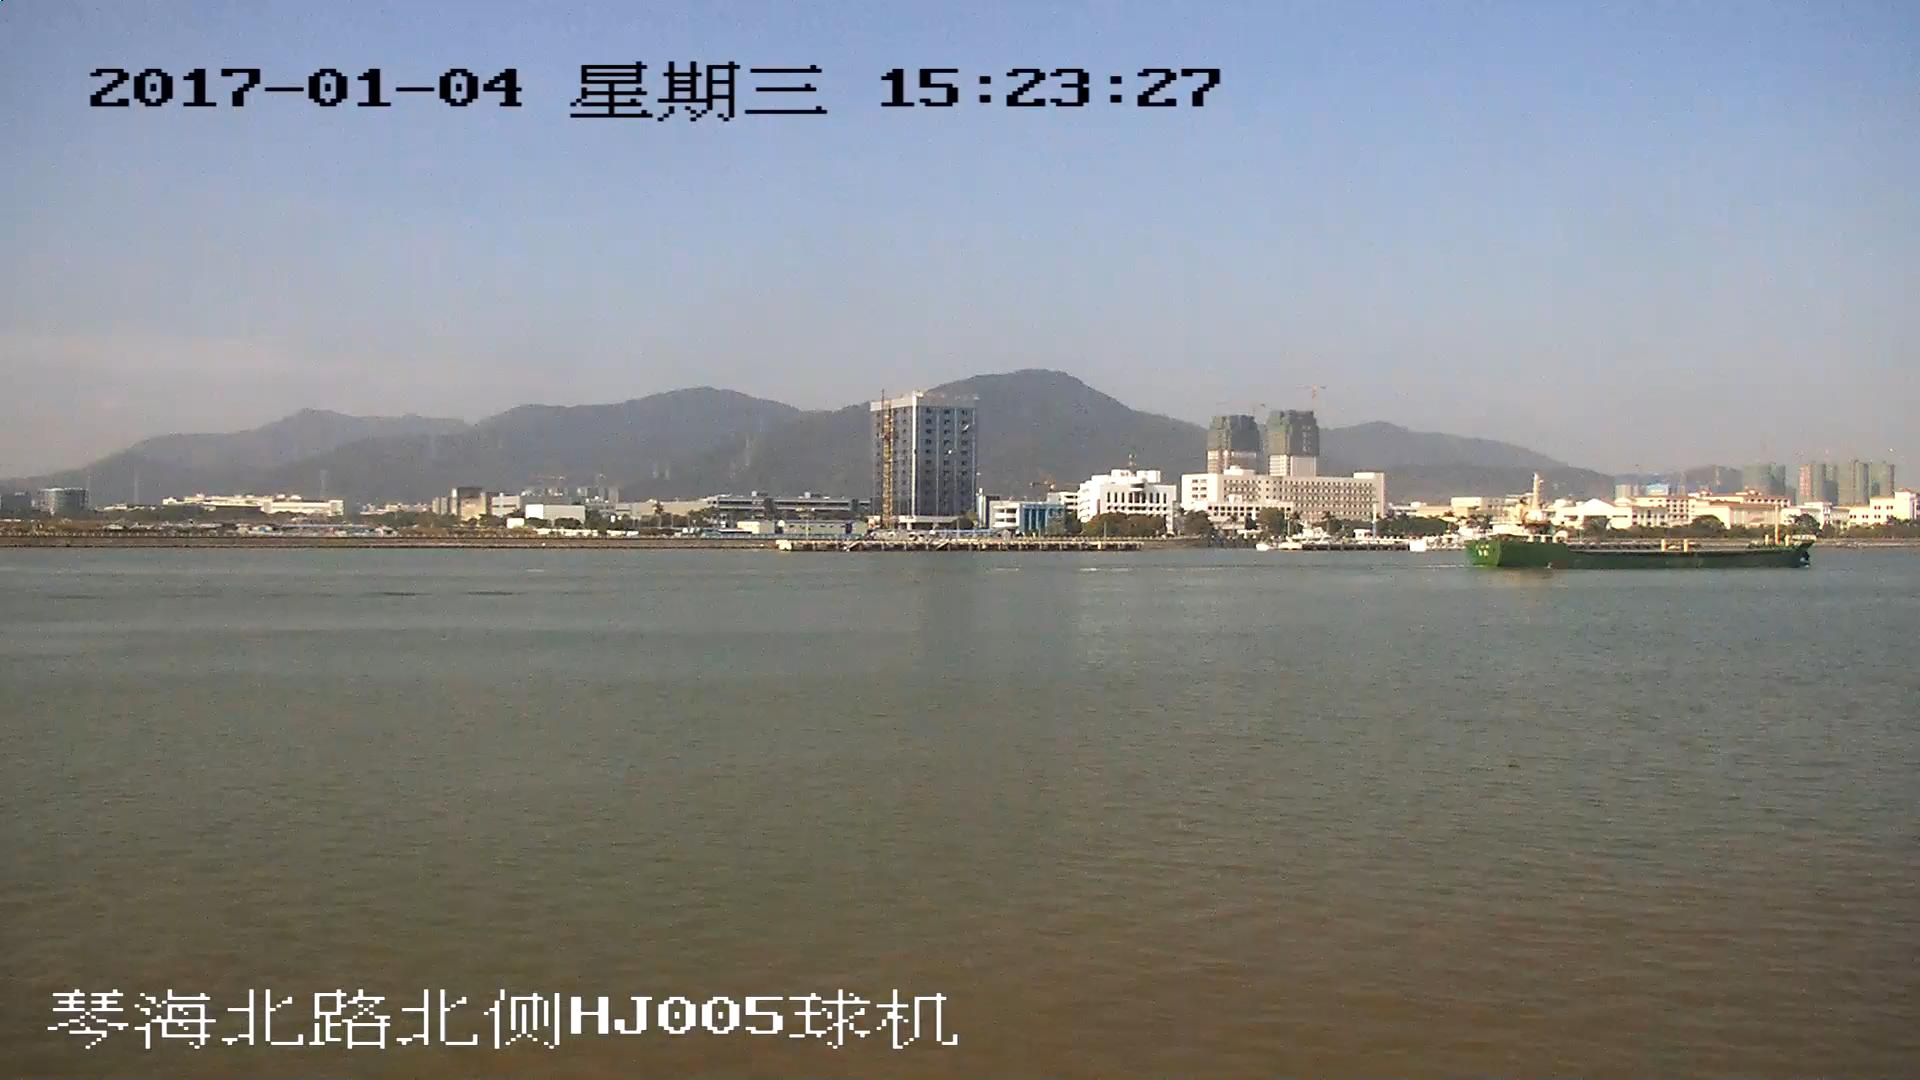general cargo ship: (1465, 478, 1811, 570)
